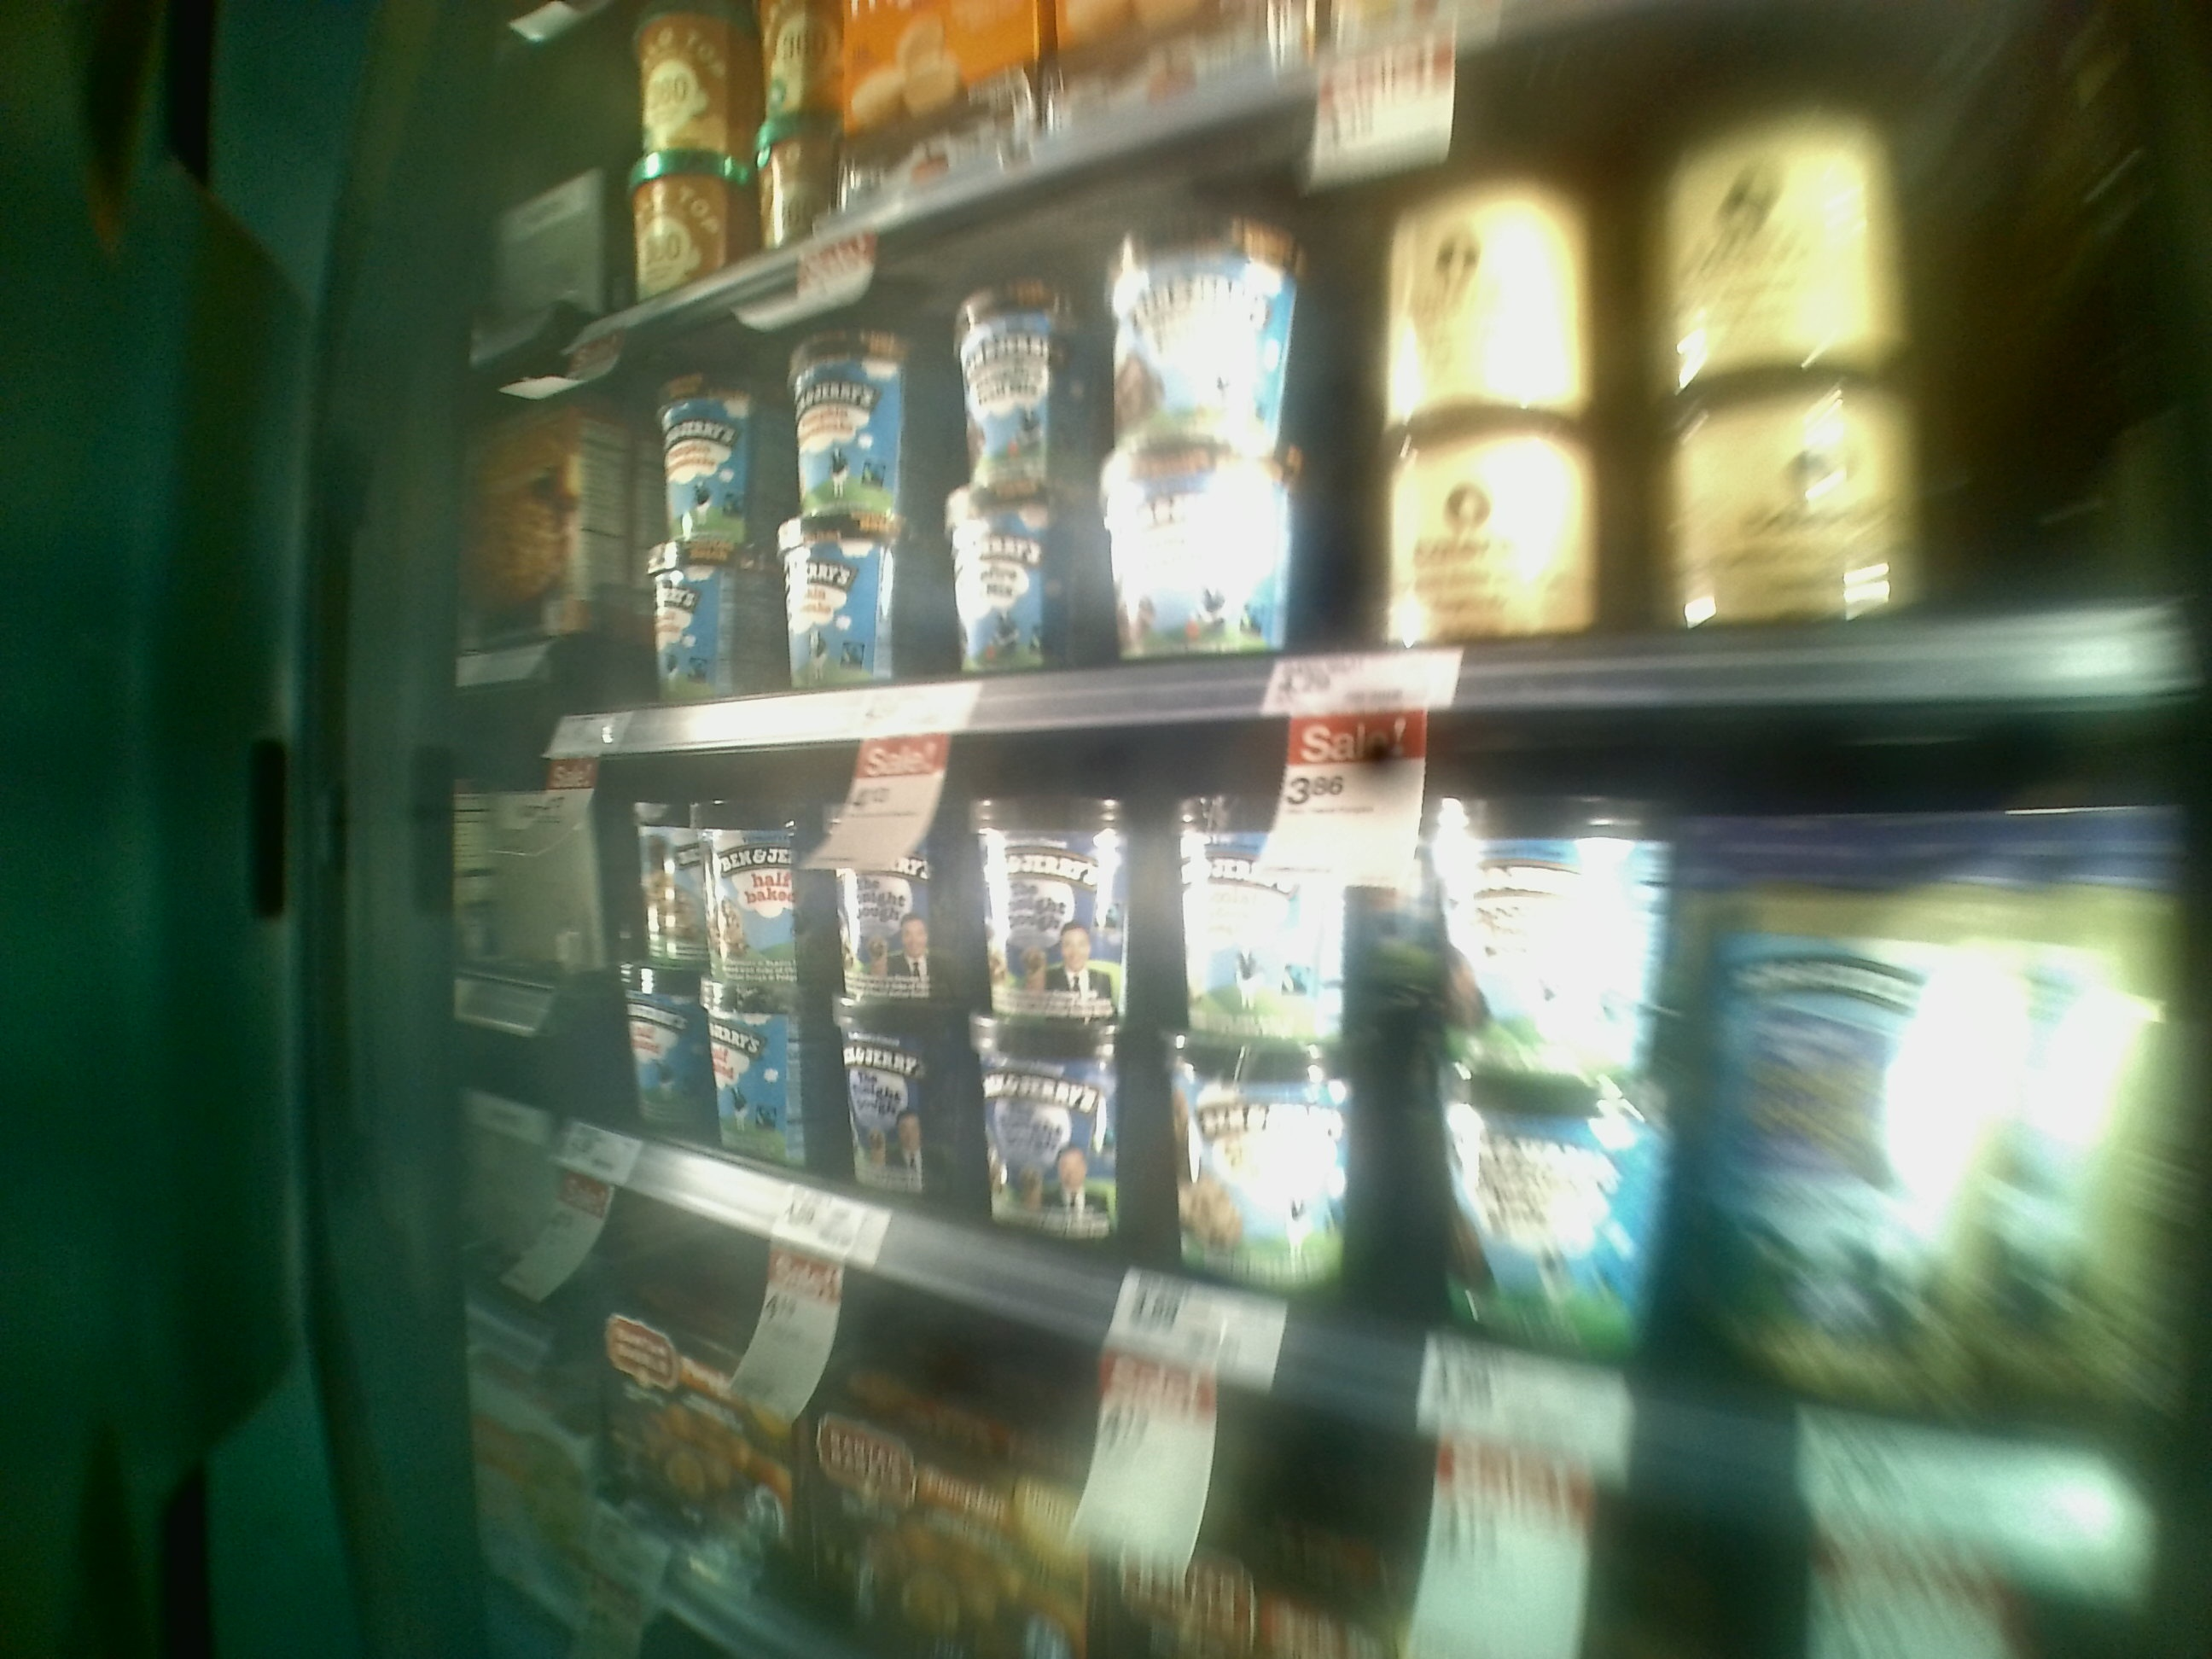shelf: (524, 708, 2161, 1544), (575, 155, 2175, 732)
